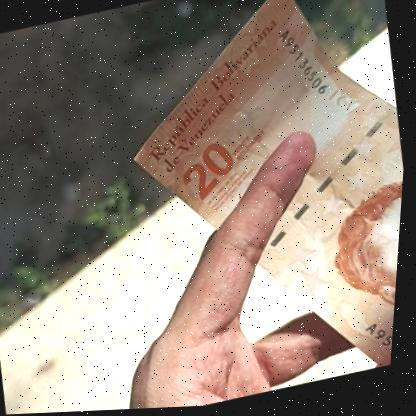twenty-front-vef: (96, 0, 416, 412)
